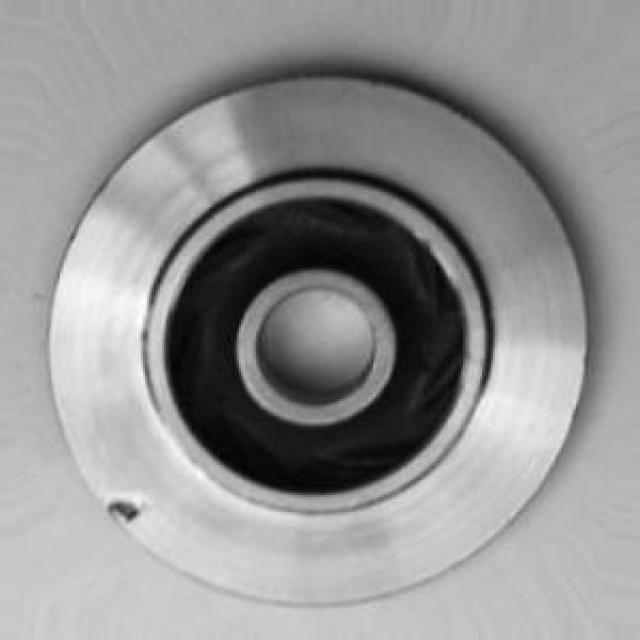Defect: (103, 490, 144, 531)
